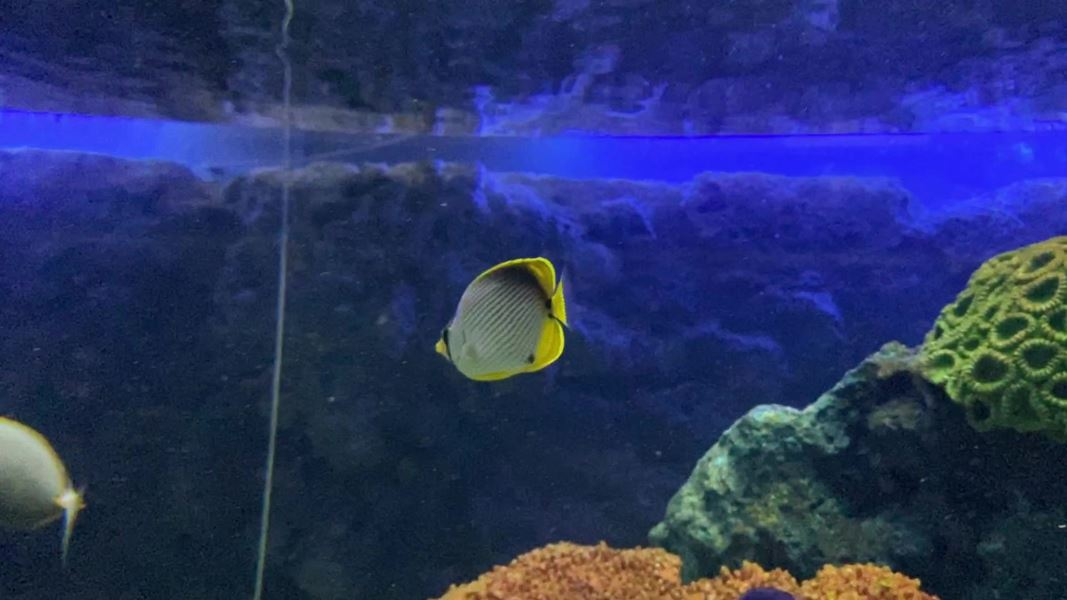Black-backed butterflyfish: (427, 246, 594, 396)
